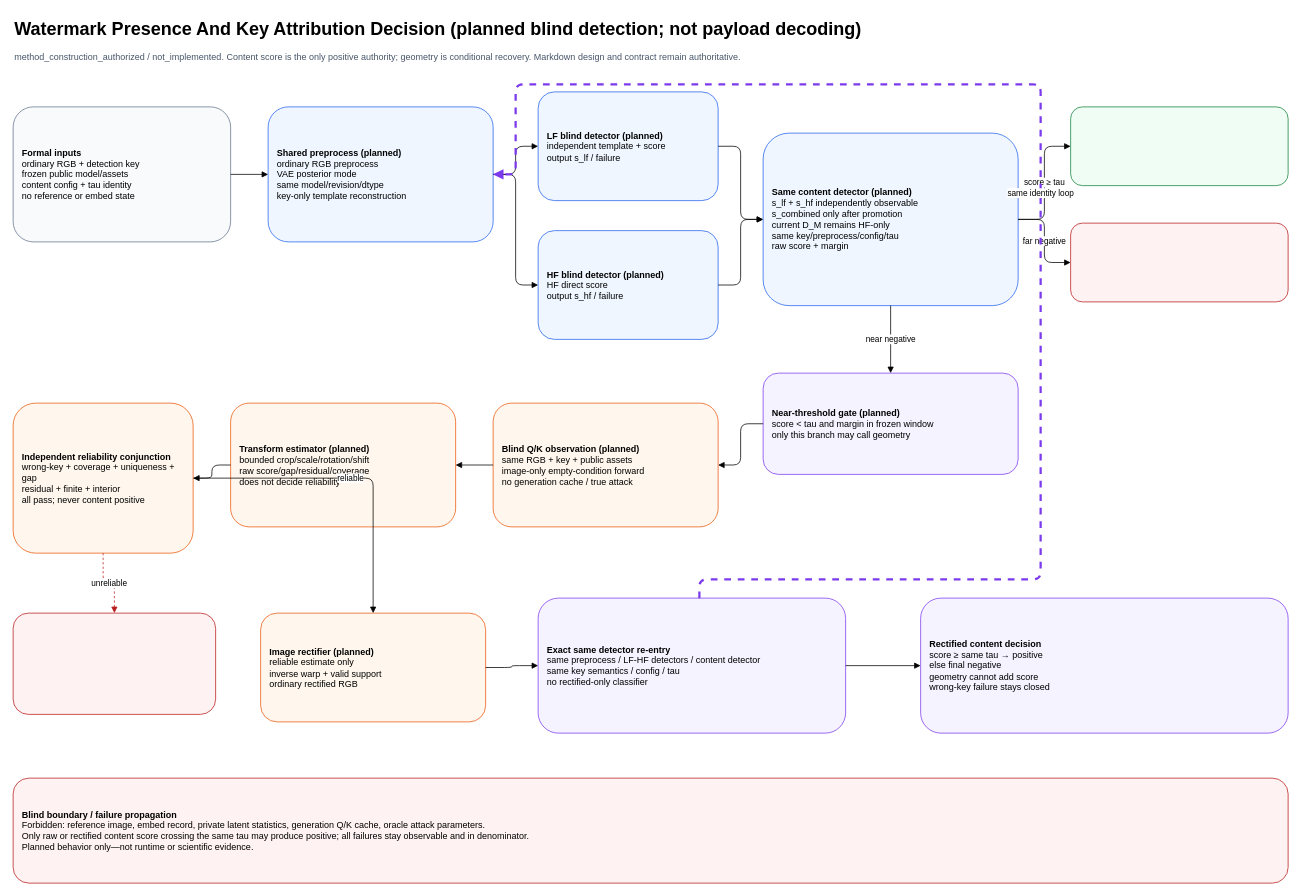
This 1301x896 diagram has some shape labels left out. Each missing label, with the box of its shape:
Far negative outside rescue → final negative: (1070, 222, 1288, 302)
Geometry fail closed wrong key / unreliable / invalid → preserve raw negative: (12, 612, 216, 714)
Raw content positive score ≥ tau → final positive: (1070, 106, 1288, 186)
